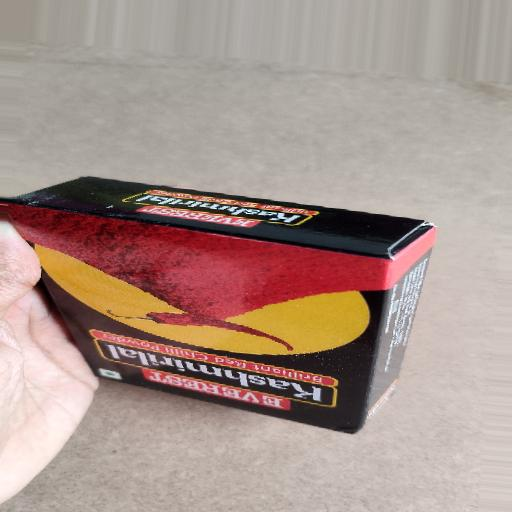Everest Kashmirilal: (3, 150, 448, 464)
